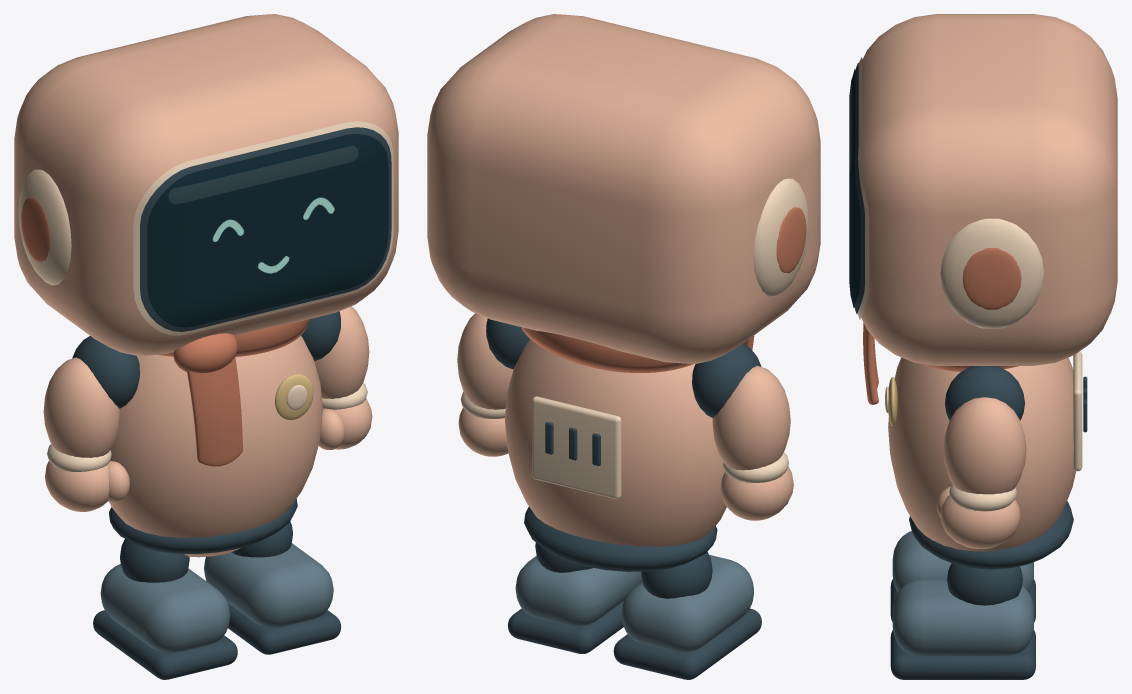
The model's file is mia.glb.
3 renders of one model, left to right at view 1: azimuth 30°, elevation 25°; view 2: azimuth 150°, elevation 25°; view 3: azimuth 270°, elevation 25°, orthographic. The views are drawn at different scales.
Visible parts, largest first — view 1: Head shell, FaceScreen, Torso, Boot upper.L, Boot upper.R, Sleeve.L, Scarf drape, Face gasket, Face rim, Boot sole.L, Side earpiece, Sleeve.R (+16 smaller); view 2: Head shell, Torso, Boot upper.L, Back service panel, Sleeve.L, Boot upper.R, Lower body seam, Boot sole.L, Side earpiece, Sleeve.R, Boot sole.R, Scarf wrap (+8 smaller); view 3: Head shell, Torso, Boot upper.R, Sleeve.R, Side earpiece.001, Boot sole.R, Lower body seam, Earpiece inset.001, Mitten.R, Shoulder socket.R, Ankle.R, Boot upper.L (+6 smaller).
Boxes of the visible parts, box(x1,y1,x2,y2) form: Head shell: box(14, 14, 398, 355); FaceScreen: box(147, 133, 388, 327); Torso: box(109, 336, 322, 557); Boot upper.L: box(100, 564, 230, 652); Boot upper.R: box(204, 543, 333, 627); Sleeve.L: box(43, 357, 119, 457); Scarf drape: box(187, 356, 242, 466); Face gasket: box(140, 127, 391, 331); Face rim: box(133, 121, 393, 335); Boot sole.L: box(93, 610, 237, 679); Side earpiece: box(18, 169, 71, 285); Sleeve.R: box(314, 306, 369, 398); Head shell: box(427, 14, 820, 364); Torso: box(504, 339, 726, 546); Boot upper.L: box(621, 554, 753, 651); Back service panel: box(532, 396, 621, 499); Sleeve.L: box(712, 365, 790, 470); Boot upper.R: box(515, 556, 642, 626); Lower body seam: box(524, 507, 717, 571); Boot sole.L: box(613, 608, 761, 679); Side earpiece: box(753, 178, 809, 297); Sleeve.R: box(457, 313, 513, 409); Boot sole.R: box(508, 601, 623, 653); Scarf wrap: box(521, 327, 692, 372); Head shell: box(861, 14, 1117, 365); Torso: box(888, 357, 1075, 551); Boot upper.R: box(892, 579, 1033, 655); Sleeve.R: box(943, 397, 1026, 494); Side earpiece.001: box(940, 218, 1043, 328); Boot sole.R: box(890, 629, 1035, 679); Lower body seam: box(909, 501, 1073, 569); Earpiece inset.001: box(962, 248, 1021, 309); Mitten.R: box(940, 495, 1020, 548); Shoulder socket.R: box(944, 366, 1024, 420); Ankle.R: box(947, 563, 1022, 605); Boot upper.L: box(892, 531, 1033, 592).
Size of the model in its own units: 1.11 by 1.77 by 0.748.
9 materials, 1 textured.
